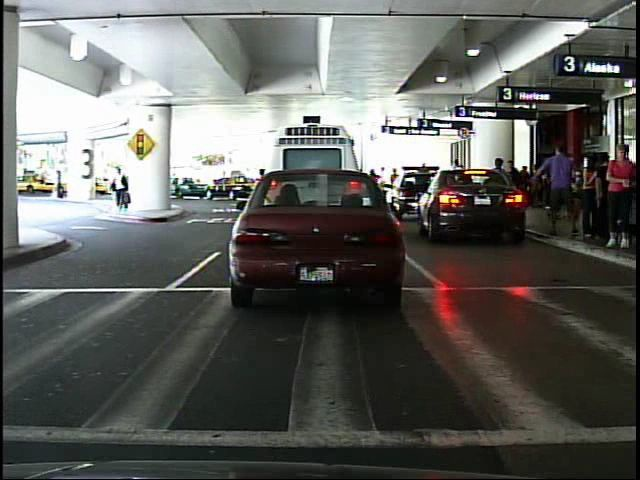person: (603, 141, 636, 254), (104, 158, 137, 212), (55, 164, 71, 203)
